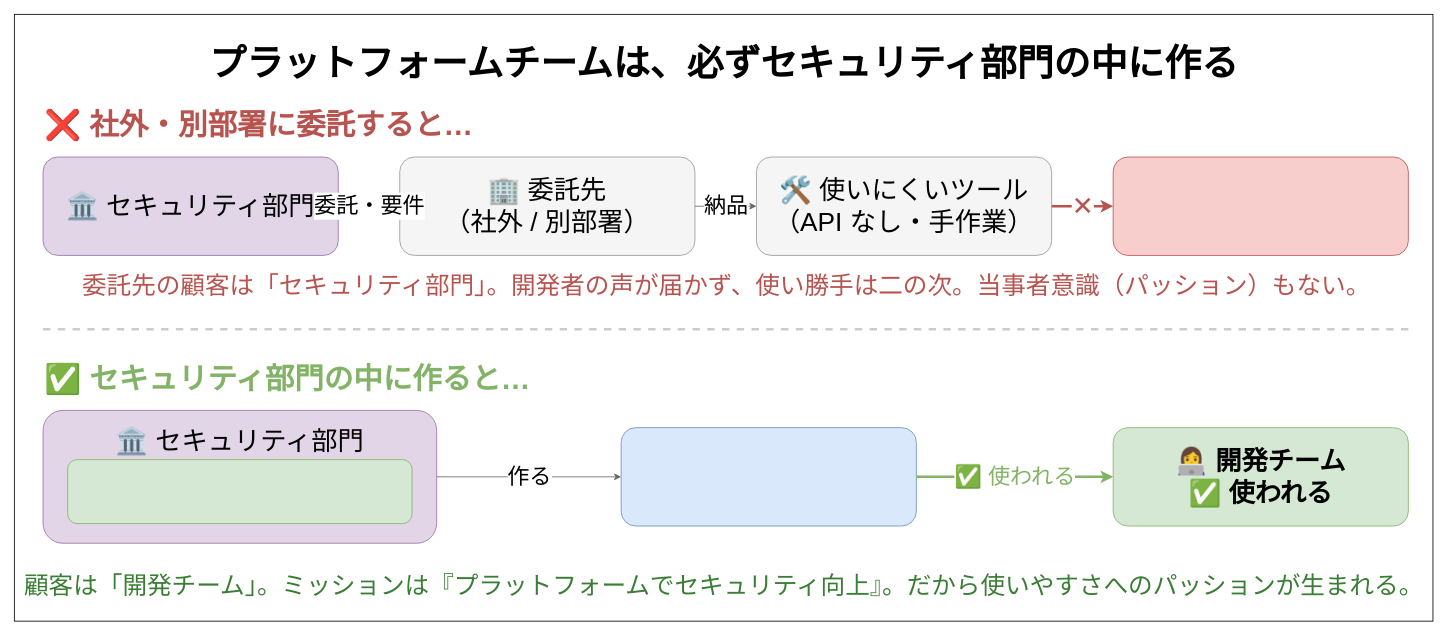
Some shapes in this 1447 by 636 pixel diagram are drawn without their labels. The shapes that lost their labels are listed below. From the top down, each one's box as (x1, y1, x2, y2) in pixels, then its label:
(1112, 156, 1408, 255): 👩‍💻 開発チーム 🚫 使われない
(67, 459, 412, 524): ⚙️ プラットフォームチーム
(620, 427, 916, 526): 🛠️ 使いやすいツール （API・自動化対応）
